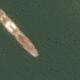ship: (0, 0, 40, 28)
